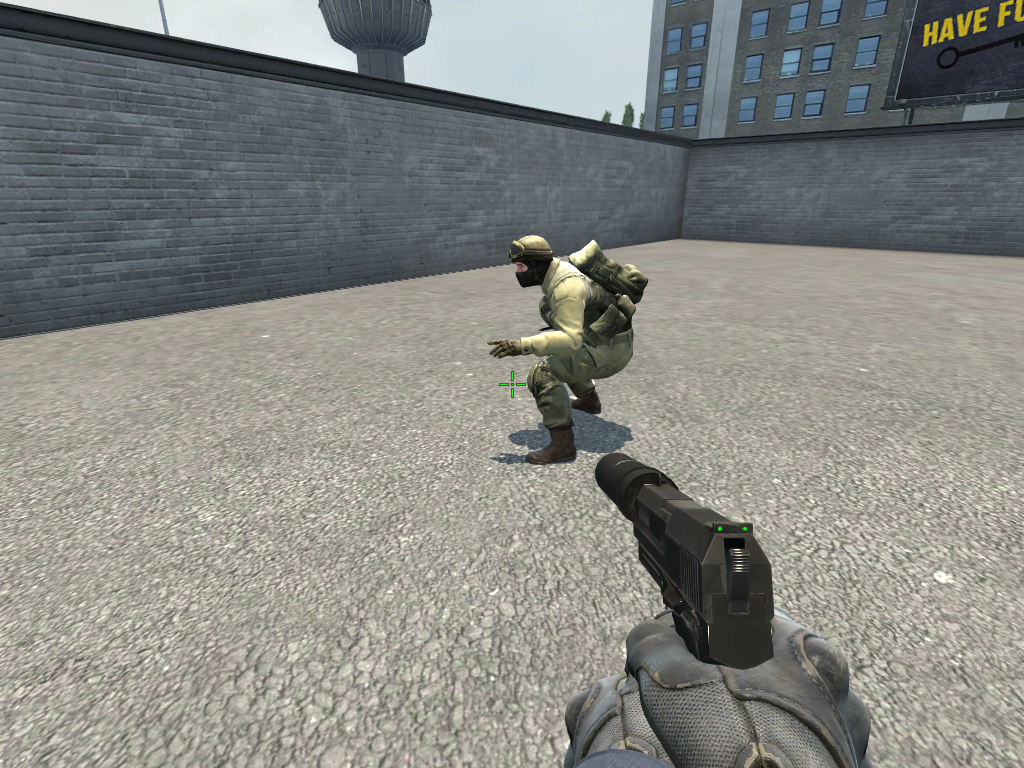ct head: (503, 229, 560, 294)
